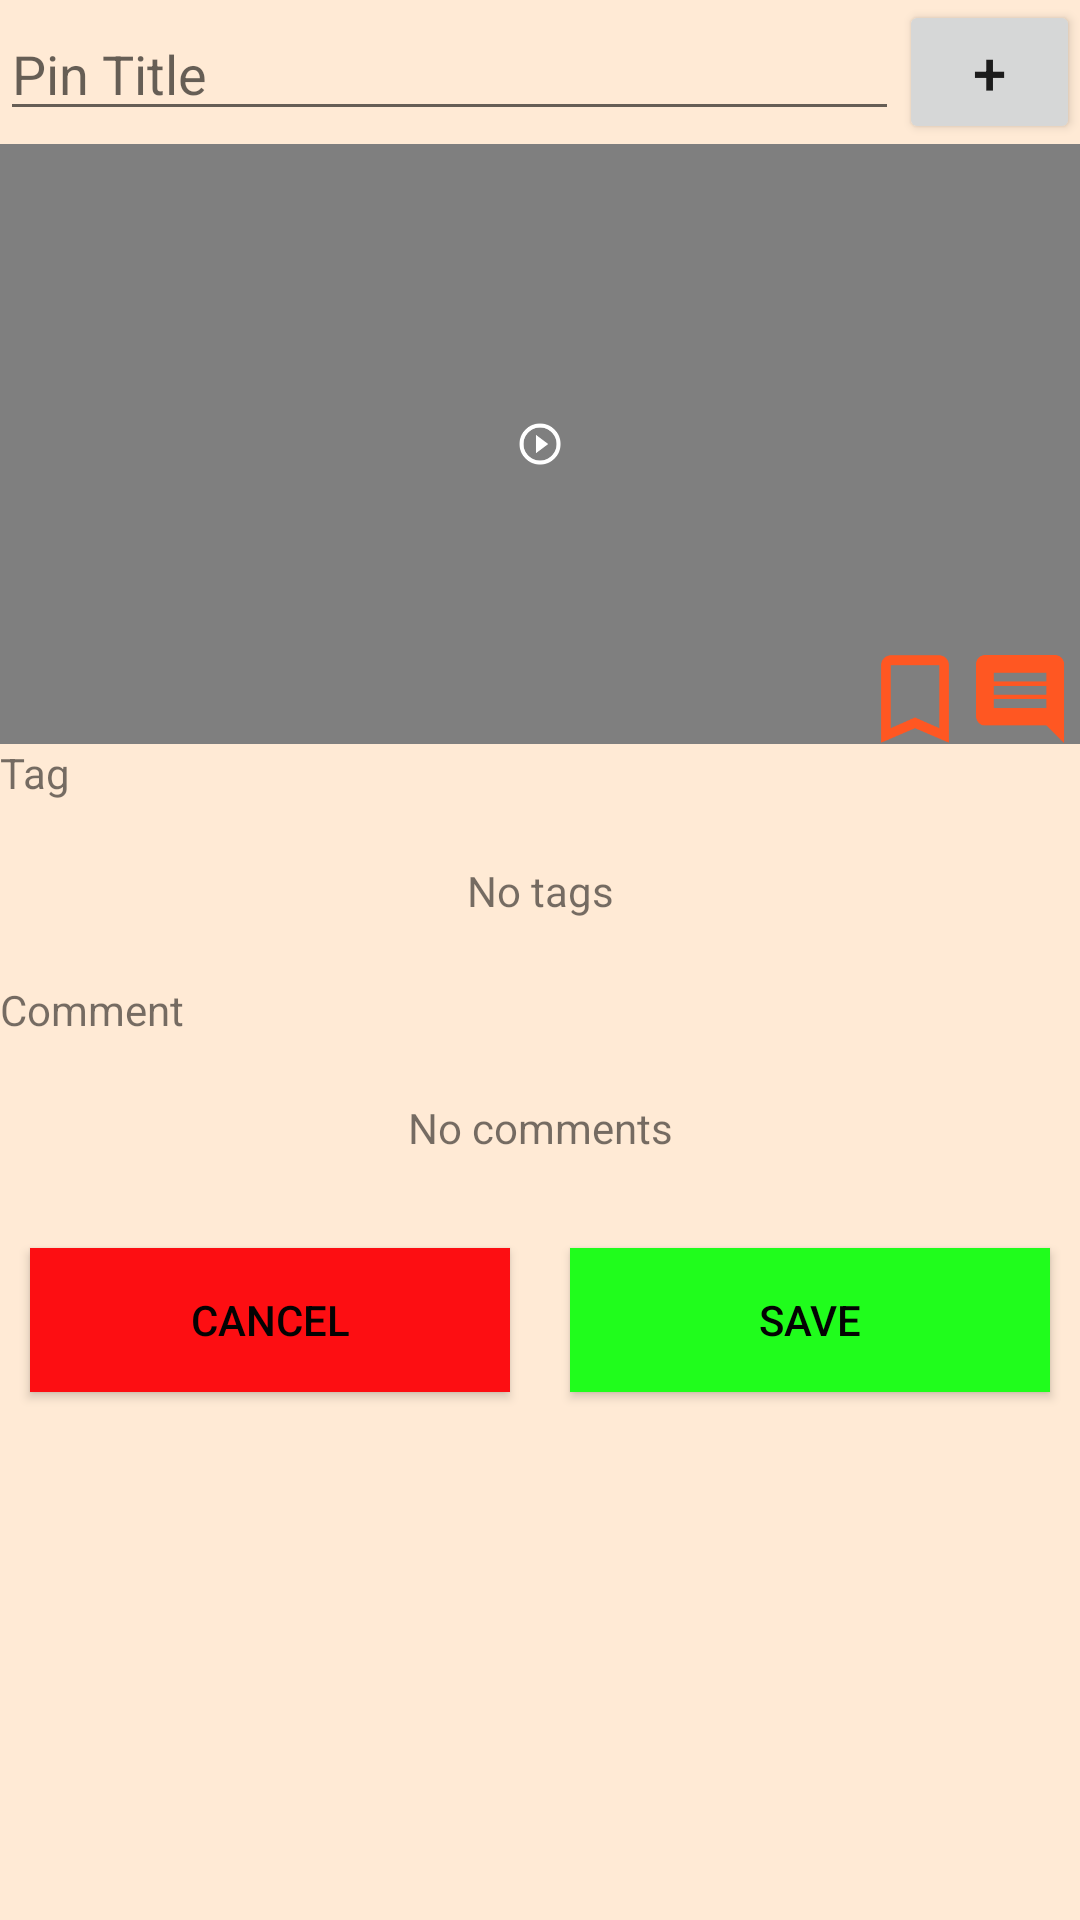

Icon click points for this 1080px x 1920px phone screenshot, format point (x, y):
comment: point (1020, 699)
play circle: point (540, 444)
tag: point (915, 699)
